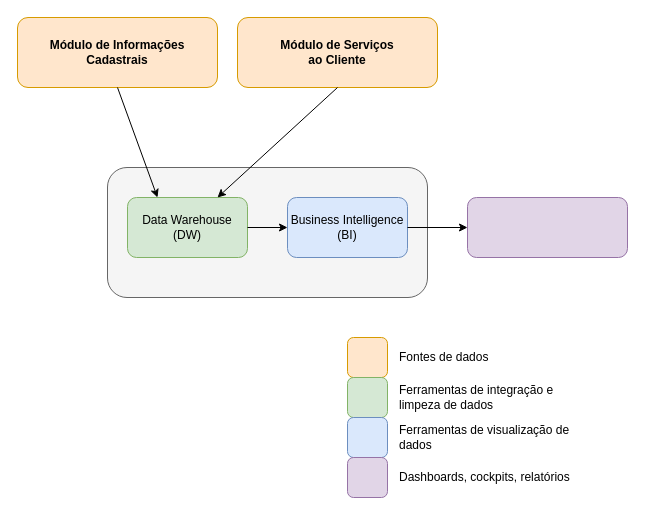
The diagram is 645 pixels wide and 515 high, and some of its shapes have lost their labels. Each missing label, with the box of its shape:
Módulo de Ciência de Dados: (106, 166, 428, 298)
Módulo de Gestão e Estratégia: (466, 196, 628, 258)
